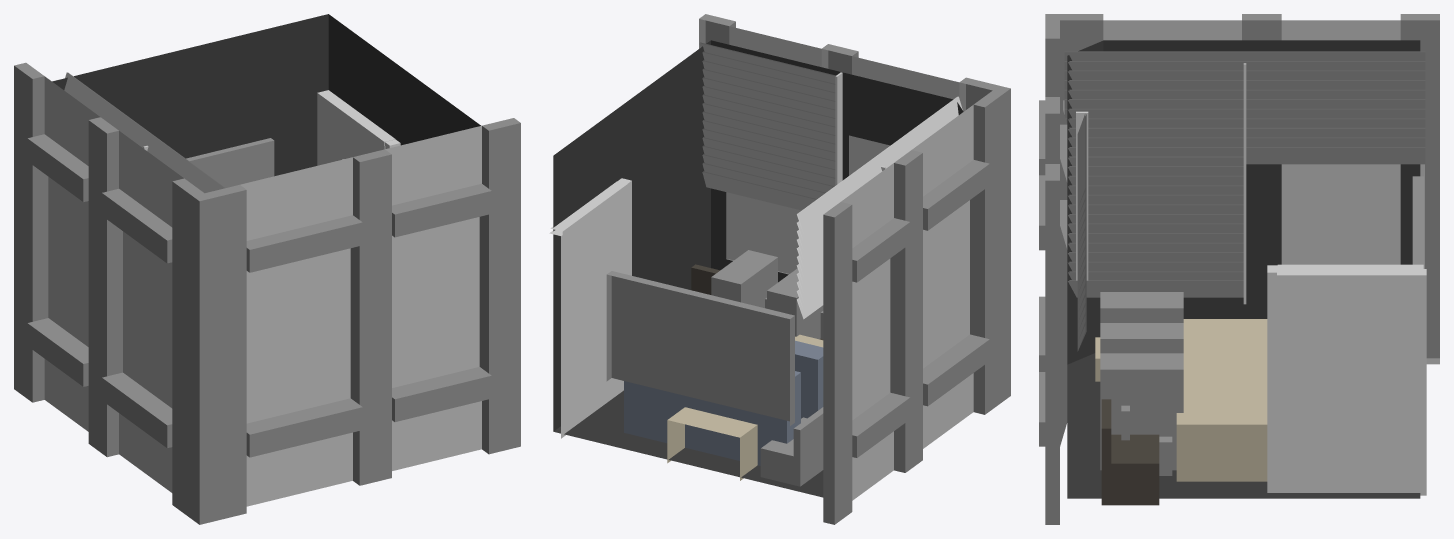
Rendered from Wall_24_A_Fake Interior_Corner.FBX.
3 views of the same model, side by side, from view 1: azimuth 30°, elevation 25°; view 2: azimuth 150°, elevation 25°; view 3: azimuth 270°, elevation 25° (orthographic). The views are drawn at different scales.
Parts seen in each view (by area): view 1: Wall_24_A_Fake Interior_Corner_LOD0, Wall_24_A_Fake Interior_B, Wall_24_A_Blind_01_LOD0; view 2: Wall_24_A_Fake Interior_Corner_LOD0, Wall_24_A_Fake Interior_B, Wall_24_A_Blind_02_LOD0, Wall_24_A_Fake Interior_C, Wall_24_A_Fake Interior_A, Wall_24_A_Blind_01_LOD0; view 3: Wall_24_A_Blind_01_LOD0, Wall_24_A_Fake Interior_Corner_LOD0, Wall_24_A_Fake Interior_C, Wall_24_A_Fake Interior_B, Wall_24_A_Fake Interior_A, Wall_24_A_Blind_02_LOD0.
Part boxes in pixels (x1=…): Wall_24_A_Fake Interior_Corner_LOD0: x1=14, y1=14, x2=520, y2=524; Wall_24_A_Fake Interior_B: x1=186, y1=90, x2=395, y2=187; Wall_24_A_Blind_01_LOD0: x1=64, y1=72, x2=225, y2=193; Wall_24_A_Fake Interior_Corner_LOD0: x1=553, y1=14, x2=1010, y2=524; Wall_24_A_Fake Interior_B: x1=550, y1=181, x2=823, y2=433; Wall_24_A_Blind_02_LOD0: x1=699, y1=42, x2=842, y2=210; Wall_24_A_Fake Interior_C: x1=618, y1=178, x2=823, y2=465; Wall_24_A_Fake Interior_A: x1=549, y1=230, x2=823, y2=486; Wall_24_A_Blind_01_LOD0: x1=796, y1=96, x2=962, y2=319; Wall_24_A_Blind_01_LOD0: x1=1064, y1=51, x2=1425, y2=304; Wall_24_A_Fake Interior_Corner_LOD0: x1=1039, y1=14, x2=1439, y2=524; Wall_24_A_Fake Interior_C: x1=1100, y1=265, x2=1413, y2=492; Wall_24_A_Fake Interior_B: x1=1121, y1=176, x2=1423, y2=481; Wall_24_A_Fake Interior_A: x1=1095, y1=269, x2=1426, y2=505; Wall_24_A_Blind_02_LOD0: x1=1076, y1=111, x2=1088, y2=351.
Size of what is drawn, in the model's own units: 190 by 180 by 190.
